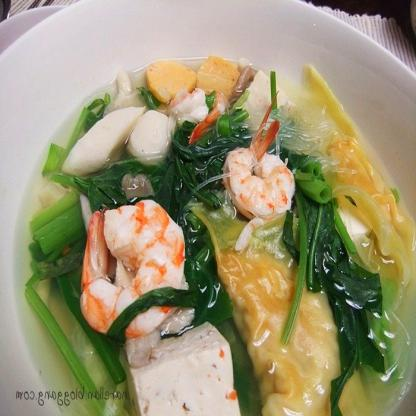Suki: (30, 43, 416, 415)
